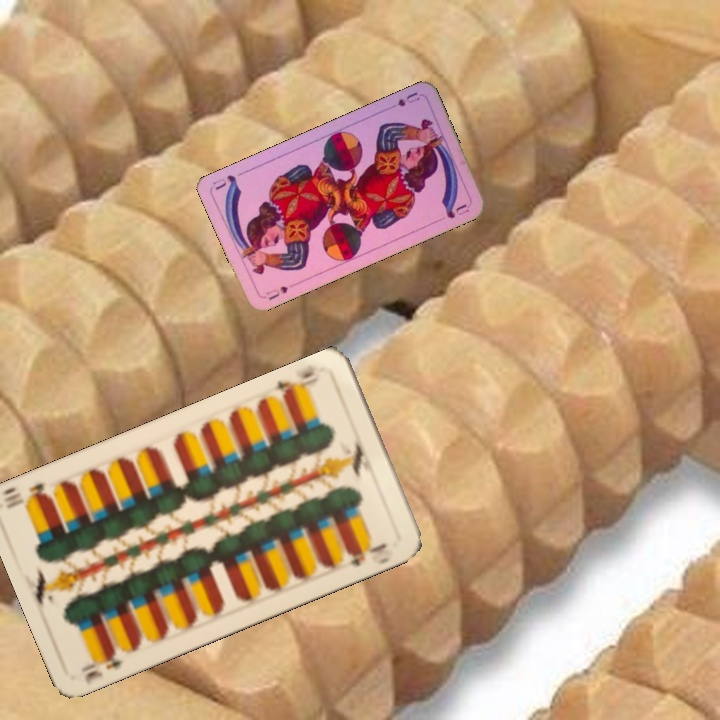E10: (271, 362, 327, 402), (77, 645, 125, 685)
SU: (383, 87, 422, 112), (262, 279, 299, 303)
